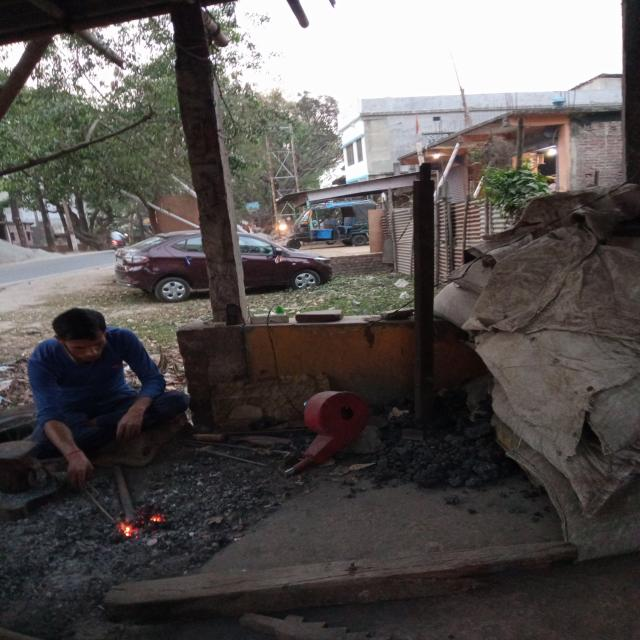Bike: (106, 228, 132, 254)
Car: (110, 227, 330, 293)
tempo: (280, 202, 393, 246)
